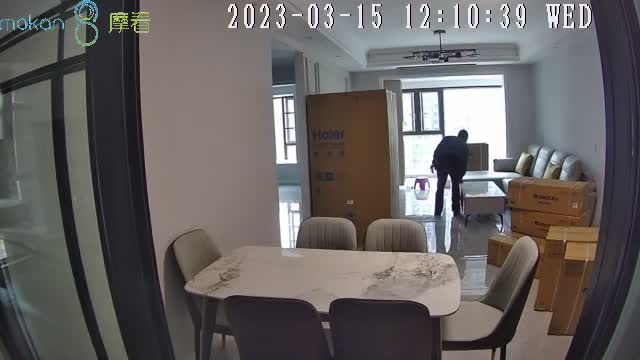people: (430, 129, 469, 216)
window: (402, 88, 507, 176)
